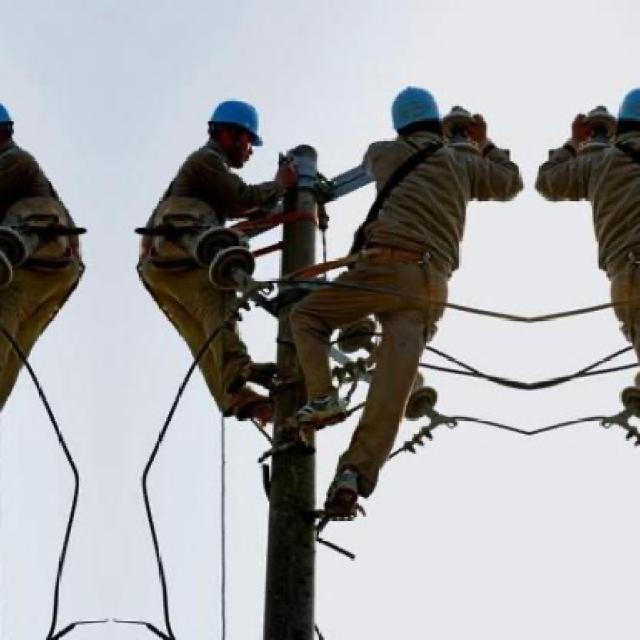con casco: (377, 85, 476, 188), (174, 85, 270, 188)
